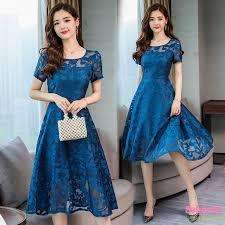dress: (32, 46, 117, 217), (124, 36, 215, 169)
